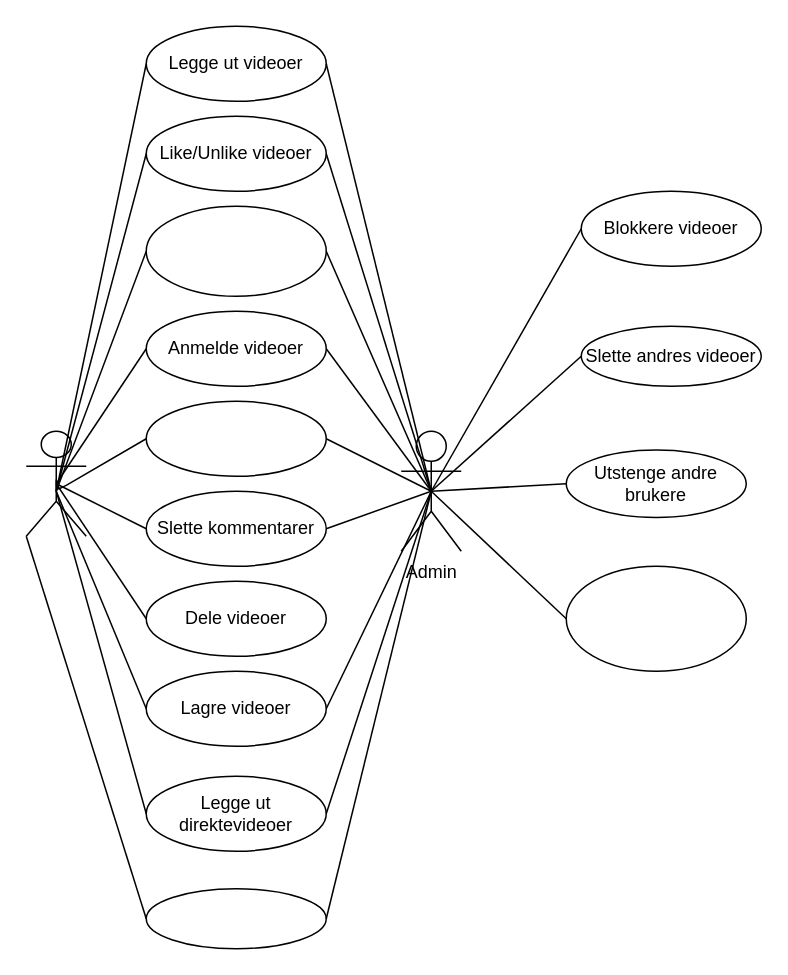
Some shapes in this 788 by 975 pixel diagram are drawn without their labels. Each missing label, with the centre of its shape:
"Bruker" belongs at [55,483].
"Kommentere videoer" belongs at [235,250].
"Slette andres kommentaror" belongs at [655,618].
"Slette egne videoer" belongs at [235,438].
"Slette sin egen bruker" belongs at [235,918].
